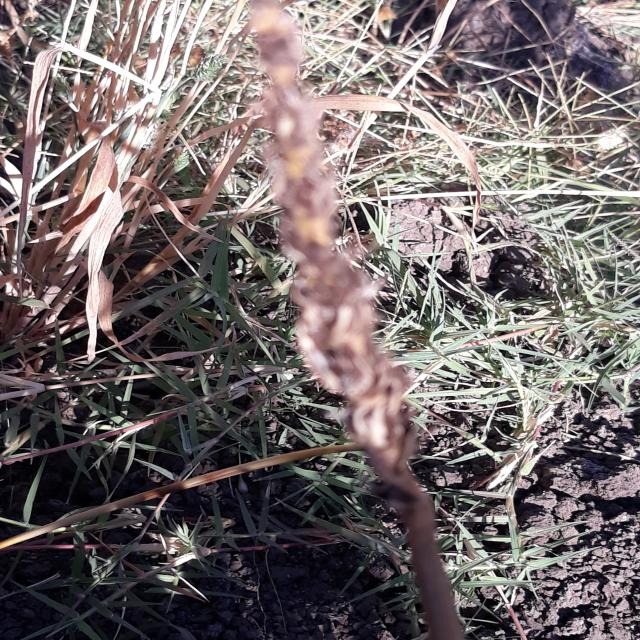loose_charred: (205, 0, 512, 640)
